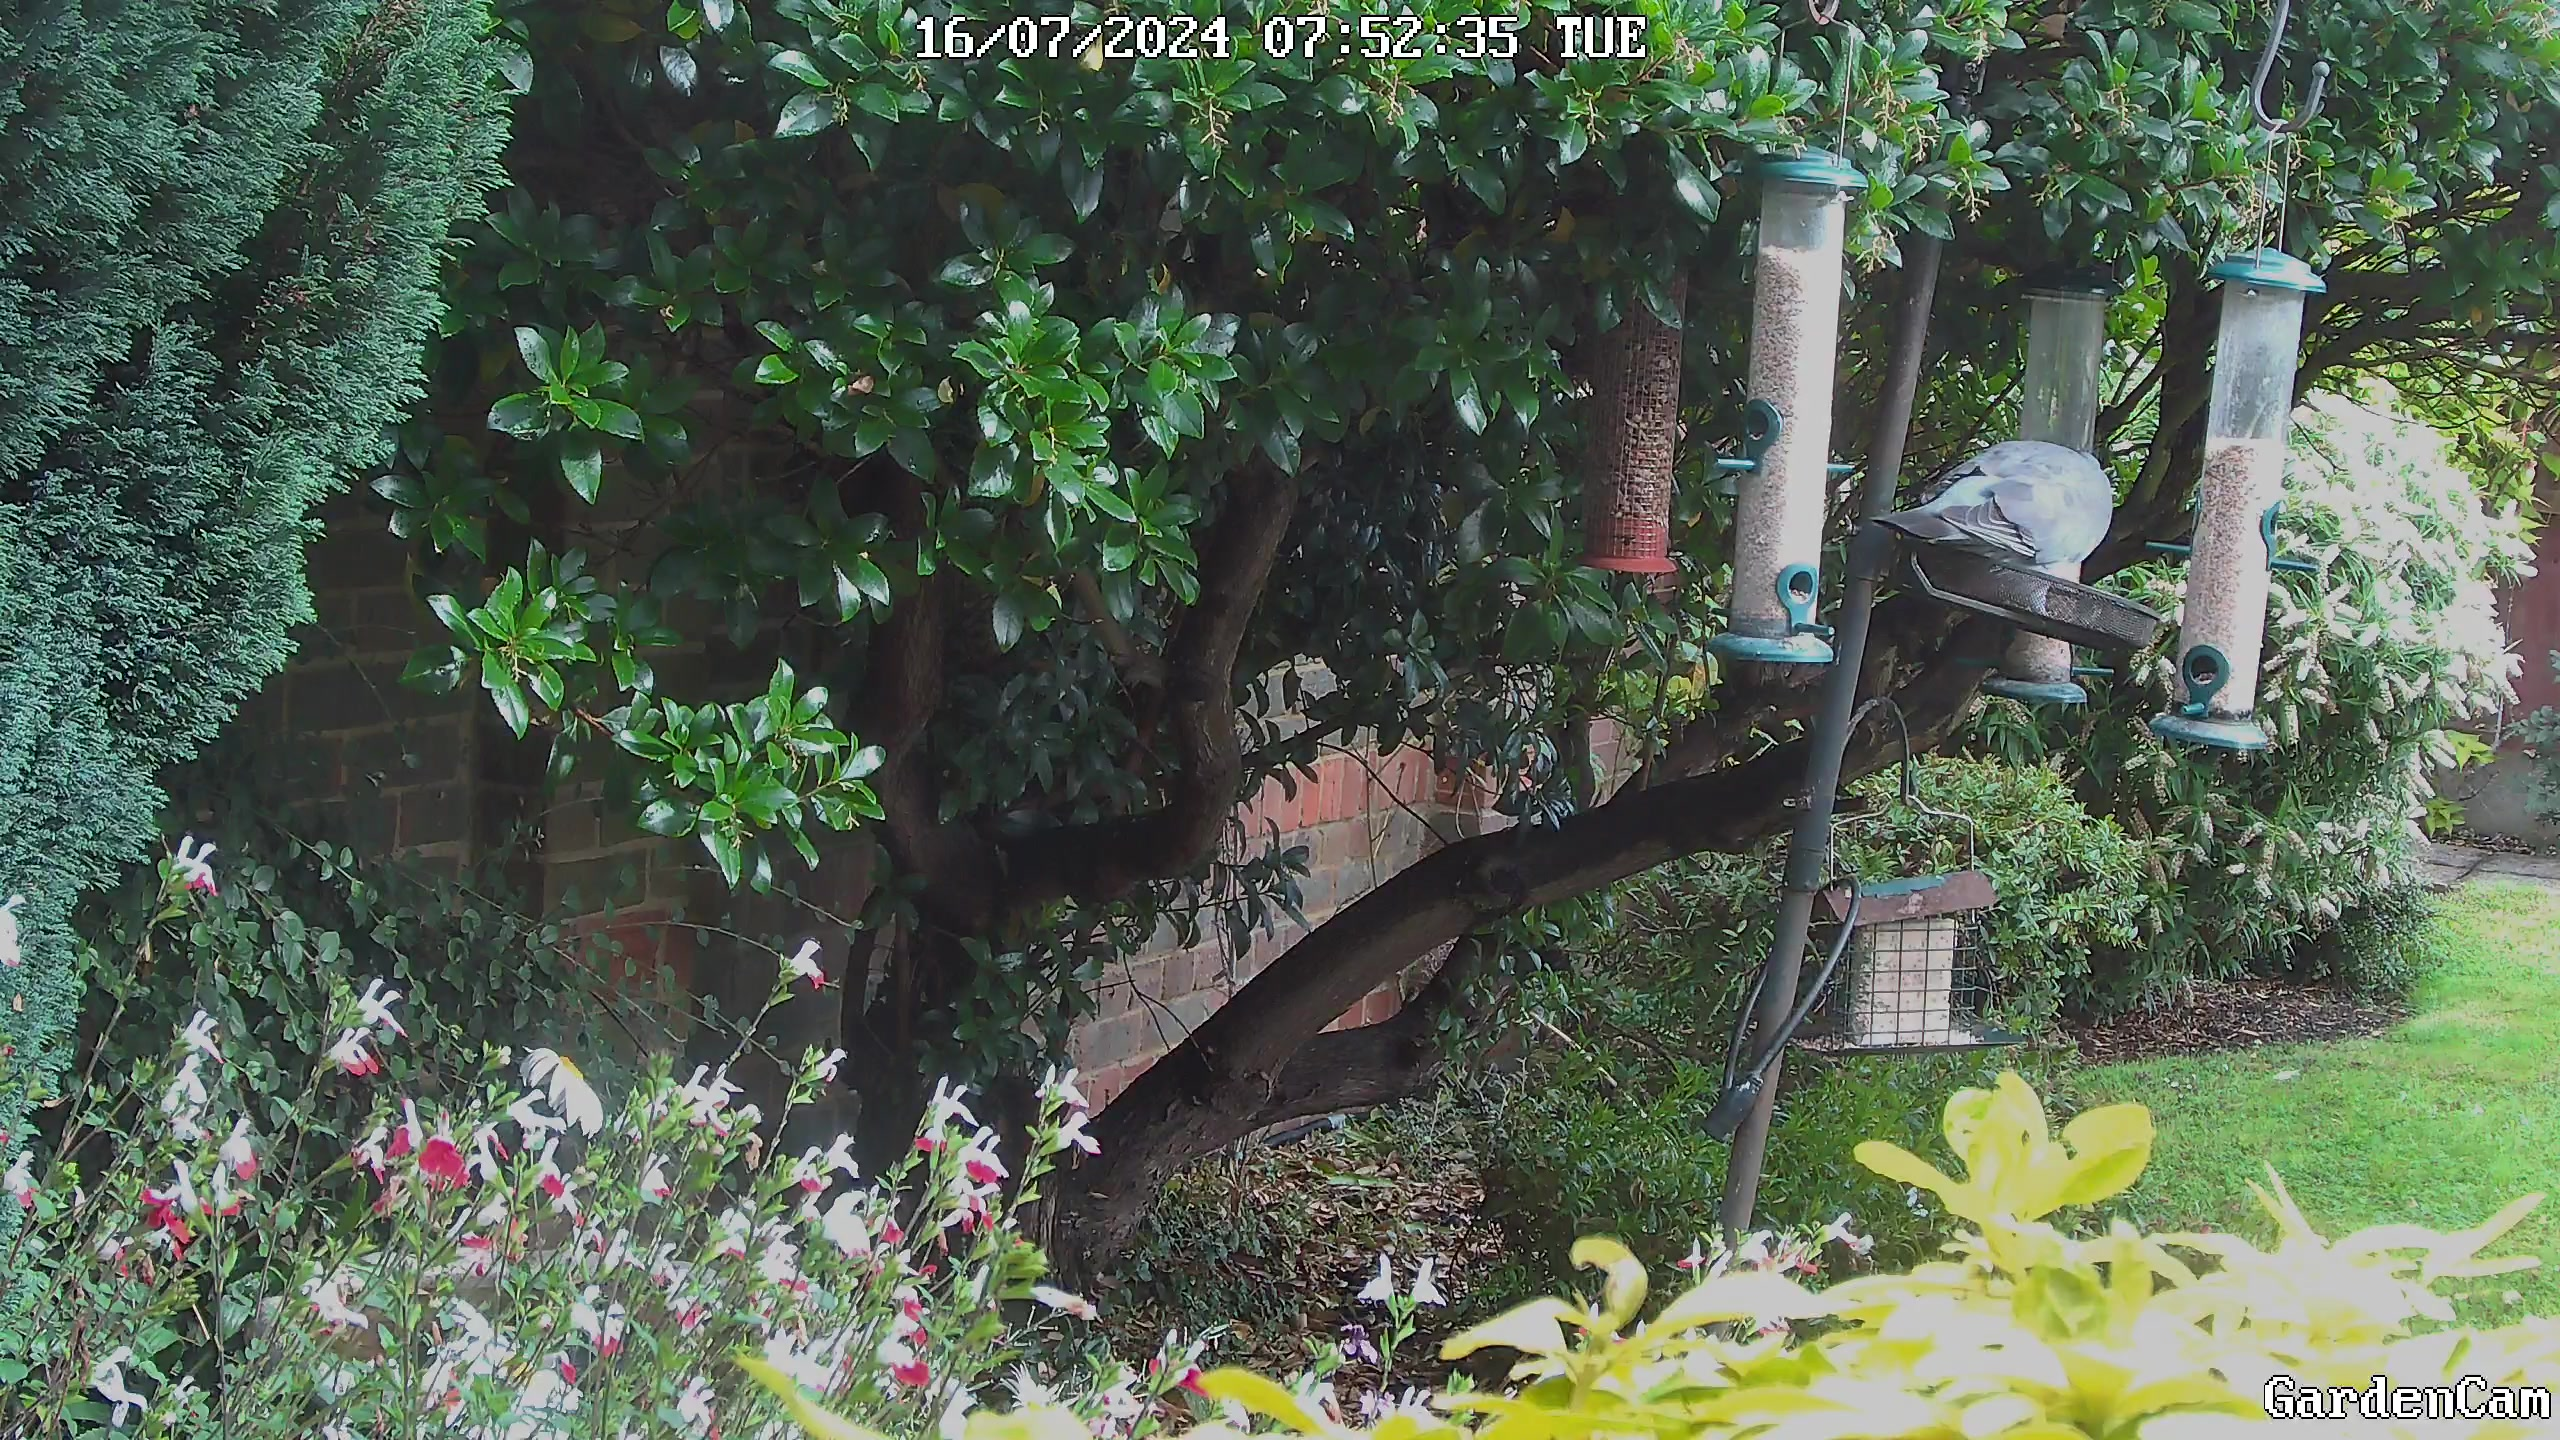Wood_Pigeon: (1876, 408, 2149, 608)
